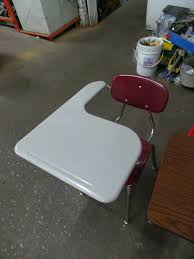desk_031.jpg: (7, 63, 164, 217)
